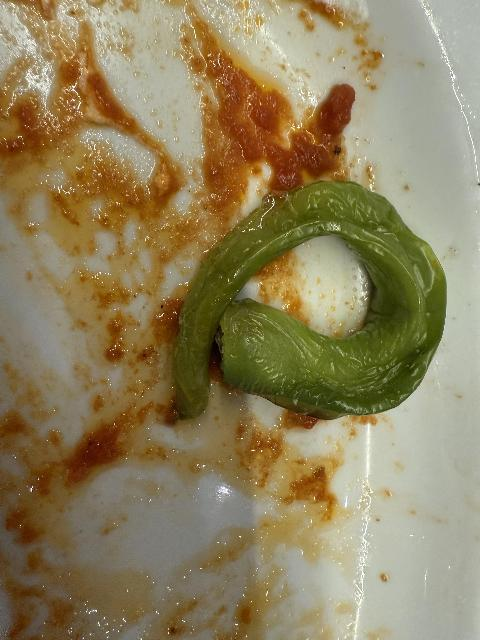Organik: (167, 173, 441, 432)
